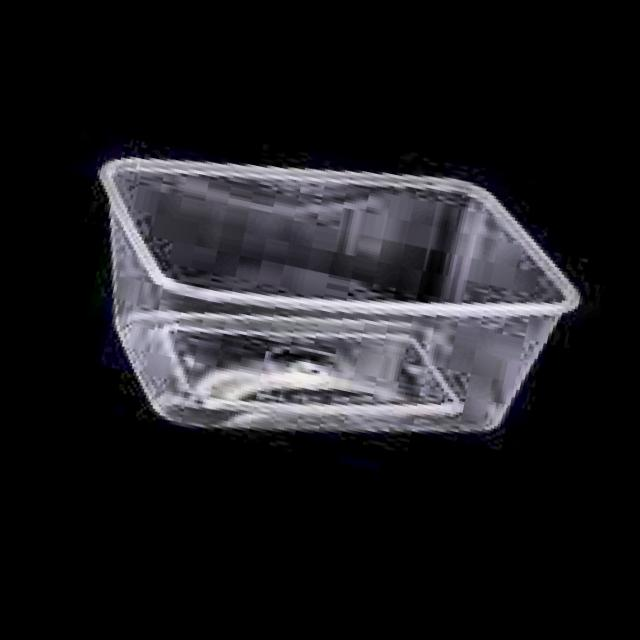plastic container: (99, 161, 579, 430)
